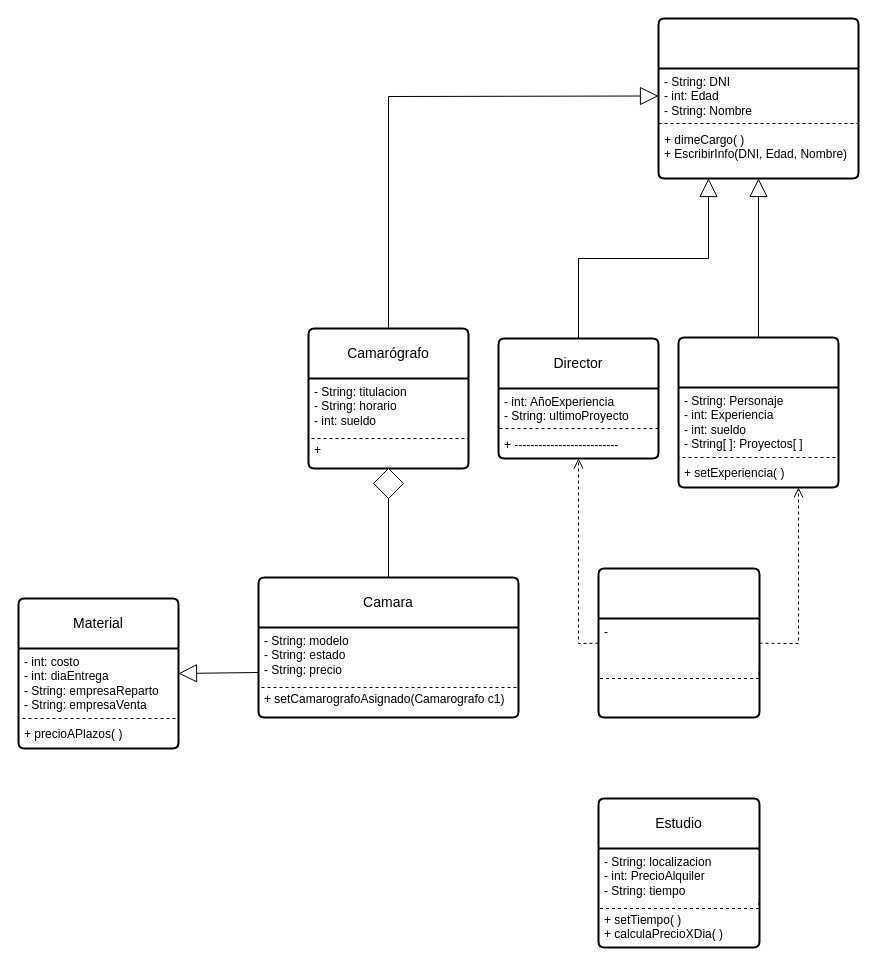
The diagram is 877 pixels wide and 965 high, and some of its shapes have lost their labels. The box of each missing label's shape, as (x1, y1, x2, y2) in pixels:
Actor: (677, 336, 839, 488)
Película: (597, 567, 760, 718)
Persona: (657, 17, 859, 179)
